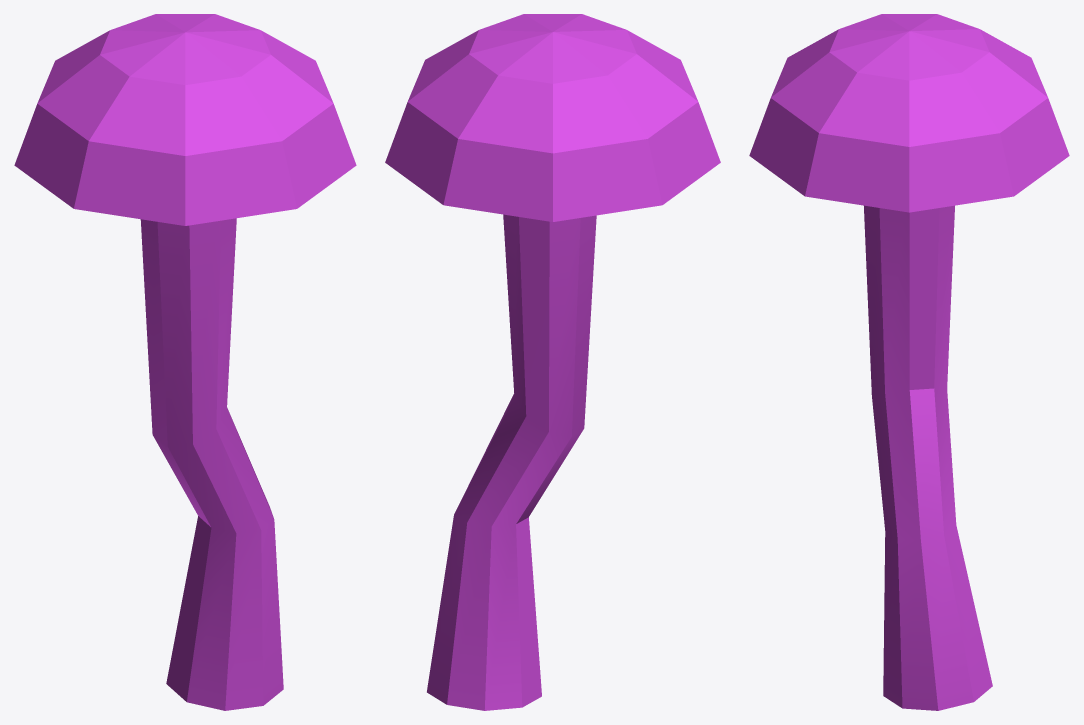
File: mushroom_03.fbx
3 views of the same model, side by side, from view 1: azimuth 30°, elevation 25°; view 2: azimuth 150°, elevation 25°; view 3: azimuth 270°, elevation 25° (orthographic). The views are drawn at different scales.
Parts seen in each view (by area): view 1: pSphere7; view 2: pSphere7; view 3: pSphere7.
Boxes of the visible parts, box(x1,y1,x2,y2) form: pSphere7: box(14, 14, 356, 710); pSphere7: box(385, 14, 720, 710); pSphere7: box(749, 14, 1069, 710).
Bounding box in the file's own units: 0.827 × 1.84 × 0.8397.
